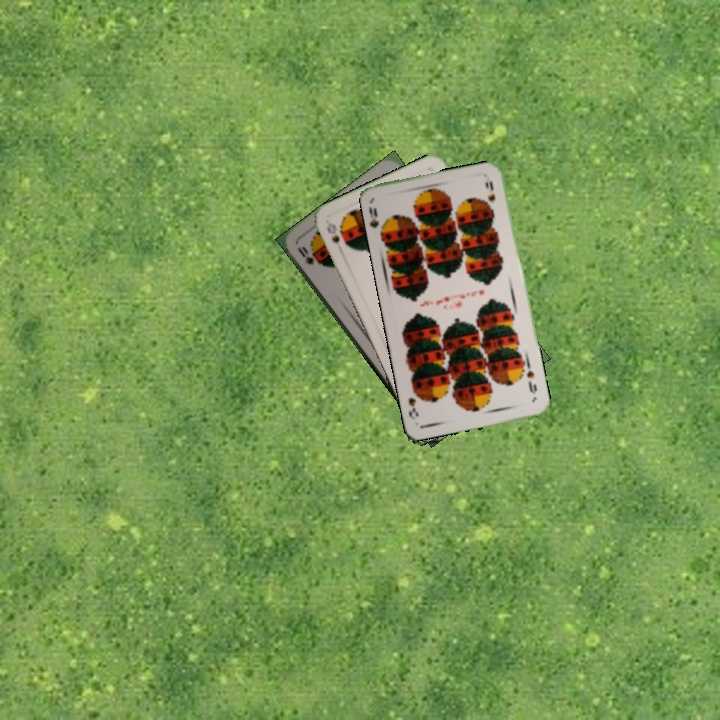S9: (365, 203, 389, 239), (523, 366, 539, 396)
SO: (293, 242, 322, 268), (322, 219, 342, 246)
